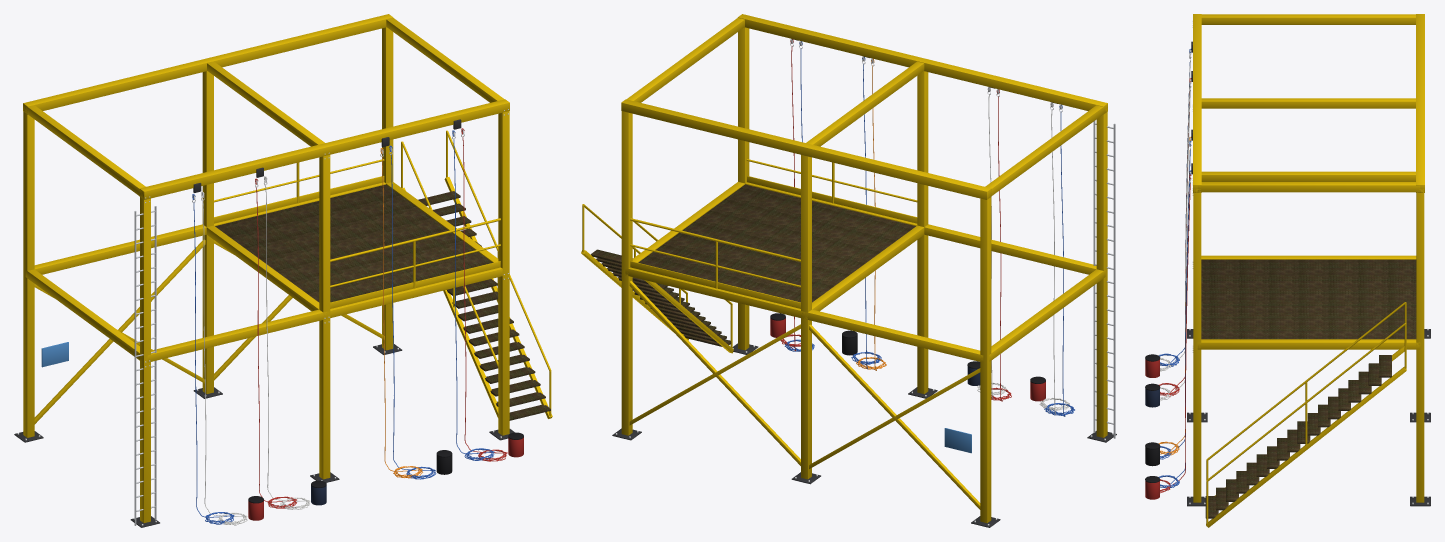
Rendered from struttura 3.glb.
3 views of the same model, side by side, from view 1: azimuth 30°, elevation 25°; view 2: azimuth 150°, elevation 25°; view 3: azimuth 270°, elevation 25° (orthographic). The views are drawn at different scales.
Parts seen in each view (by area): view 1: struttura_telaio, struttura_pianale, struttura_scala, struttura_dettagli, struttura_parapetto, struttura_marinara, struttura_corda_blu, struttura_corda_rossa, struttura_corda_bianca, struttura_corda_arancio; view 2: struttura_telaio, struttura_pianale, struttura_dettagli, struttura_scala, struttura_parapetto, struttura_marinara, struttura_corda_blu, struttura_corda_bianca, struttura_corda_rossa; view 3: struttura_telaio, struttura_pianale, struttura_scala, struttura_dettagli, struttura_parapetto, struttura_corda_blu, struttura_corda_bianca, struttura_corda_rossa.
Part boxes in pixels (<box>): struttura_telaio: <box>23,14,509,522</box>; struttura_pianale: <box>215,184,492,302</box>; struttura_scala: <box>402,177,552,420</box>; struttura_dettagli: <box>14,109,523,527</box>; struttura_parapetto: <box>214,130,551,418</box>; struttura_marinara: <box>134,206,156,525</box>; struttura_corda_blu: <box>192,130,494,524</box>; struttura_corda_rossa: <box>255,128,507,508</box>; struttura_corda_bianca: <box>201,176,310,525</box>; struttura_corda_arancio: <box>380,148,422,478</box>; struttura_telaio: <box>621,14,1107,522</box>; struttura_pianale: <box>638,184,915,302</box>; struttura_dettagli: <box>612,43,1116,527</box>; struttura_scala: <box>581,249,733,353</box>; struttura_parapetto: <box>582,159,917,347</box>; struttura_marinara: <box>1093,121,1115,438</box>; struttura_corda_blu: <box>784,41,1074,416</box>; struttura_corda_bianca: <box>977,87,1069,414</box>; struttura_corda_rossa: <box>780,39,1011,401</box>; struttura_telaio: <box>1193,14,1424,502</box>; struttura_pianale: <box>1201,259,1416,339</box>; struttura_scala: <box>1205,346,1406,527</box>; struttura_dettagli: <box>1145,20,1430,506</box>; struttura_parapetto: <box>1206,302,1406,524</box>; struttura_corda_blu: <box>1159,49,1191,489</box>; struttura_corda_bianca: <box>1160,53,1191,400</box>; struttura_corda_rossa: <box>1159,78,1191,493</box>.
Bounding box in the file's own units: 9.46 × 7.12 × 5.76.
13 materials, 1 textured.
